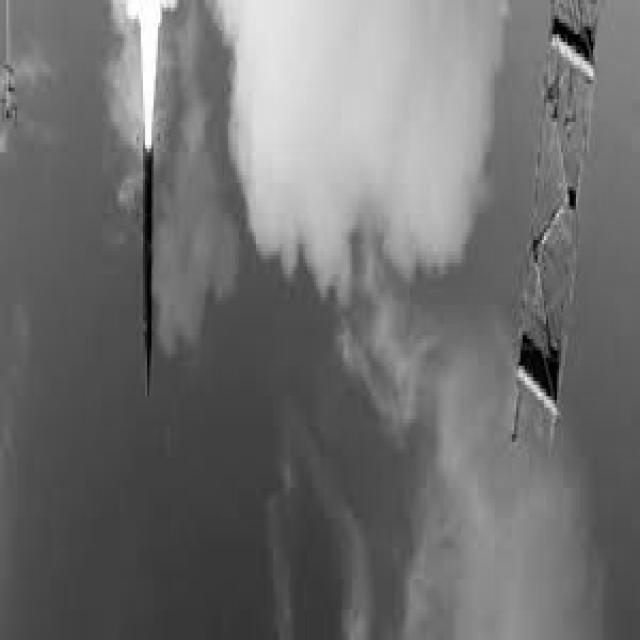missile: (139, 130, 158, 408)
